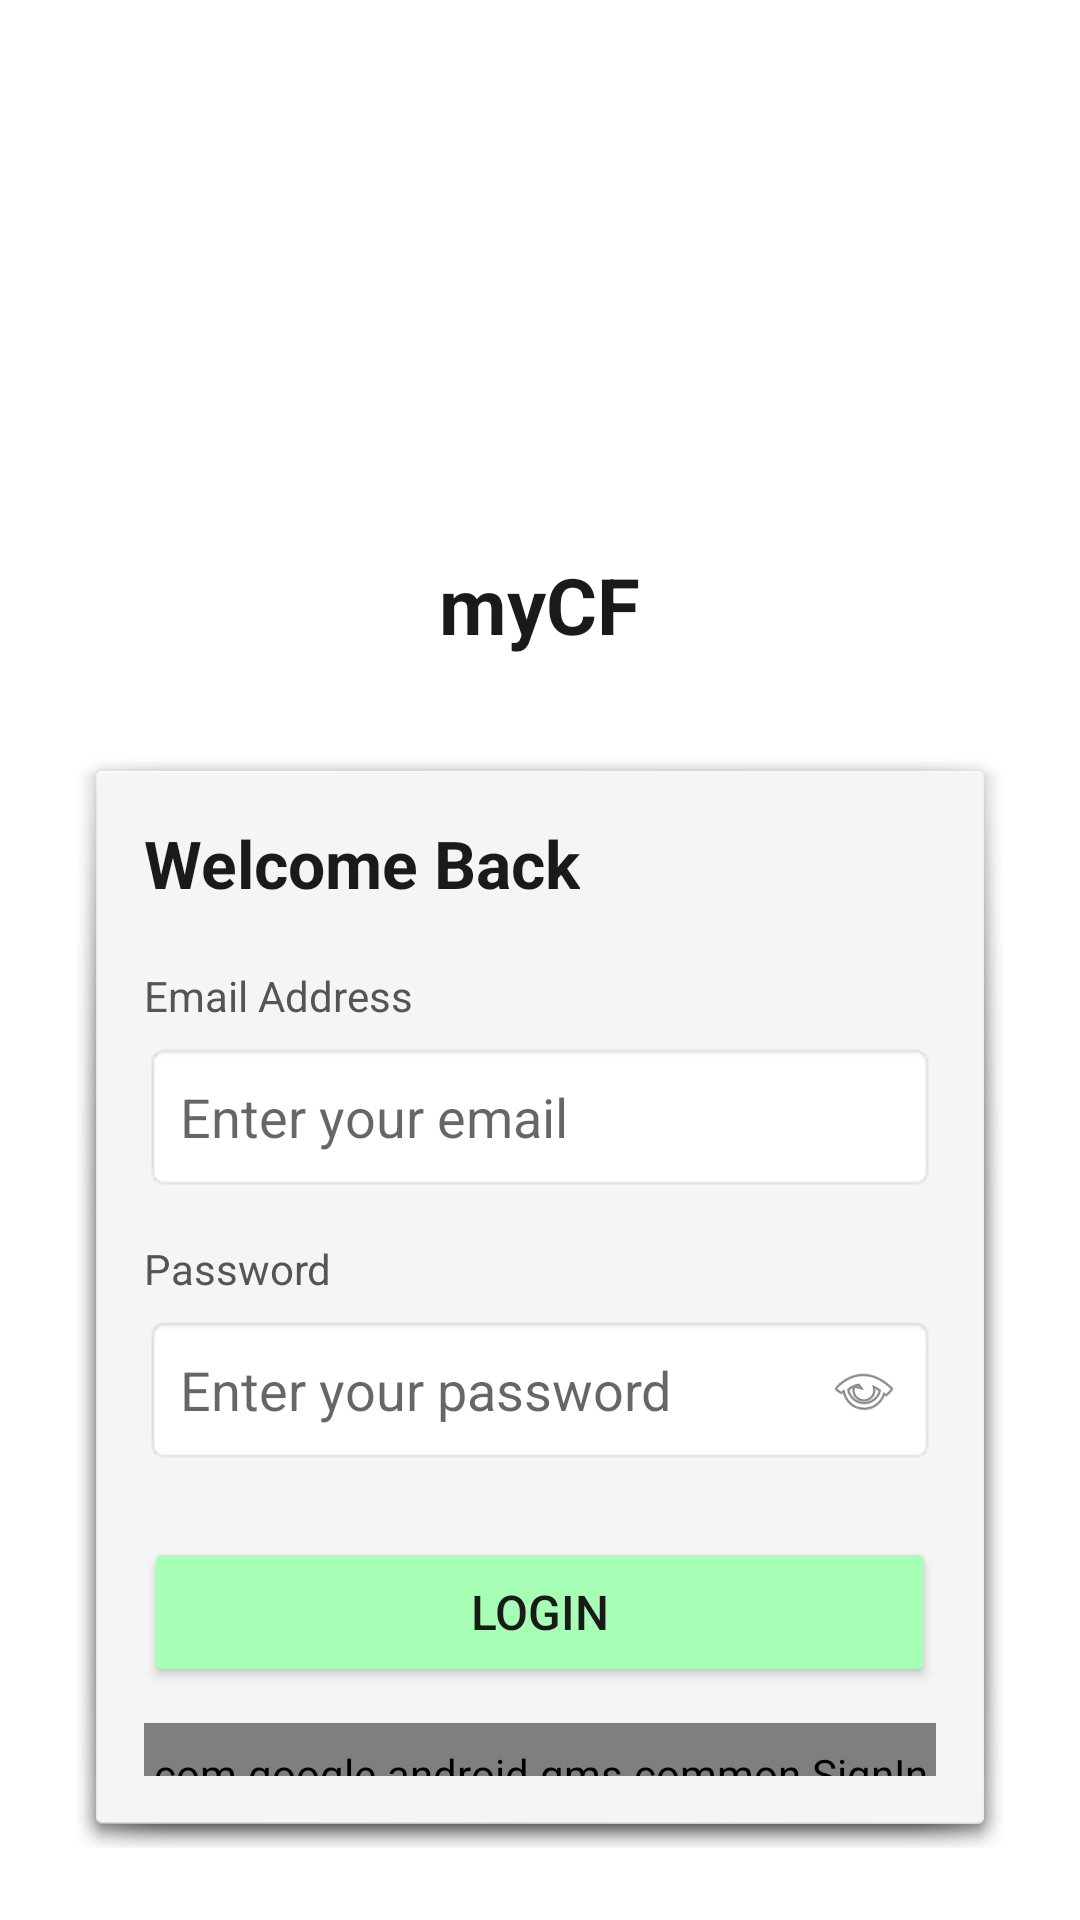

Icons on this 1080×1920 Android screen, each with the point to tap as (x=x, y=y):
view: (x=864, y=1391)
